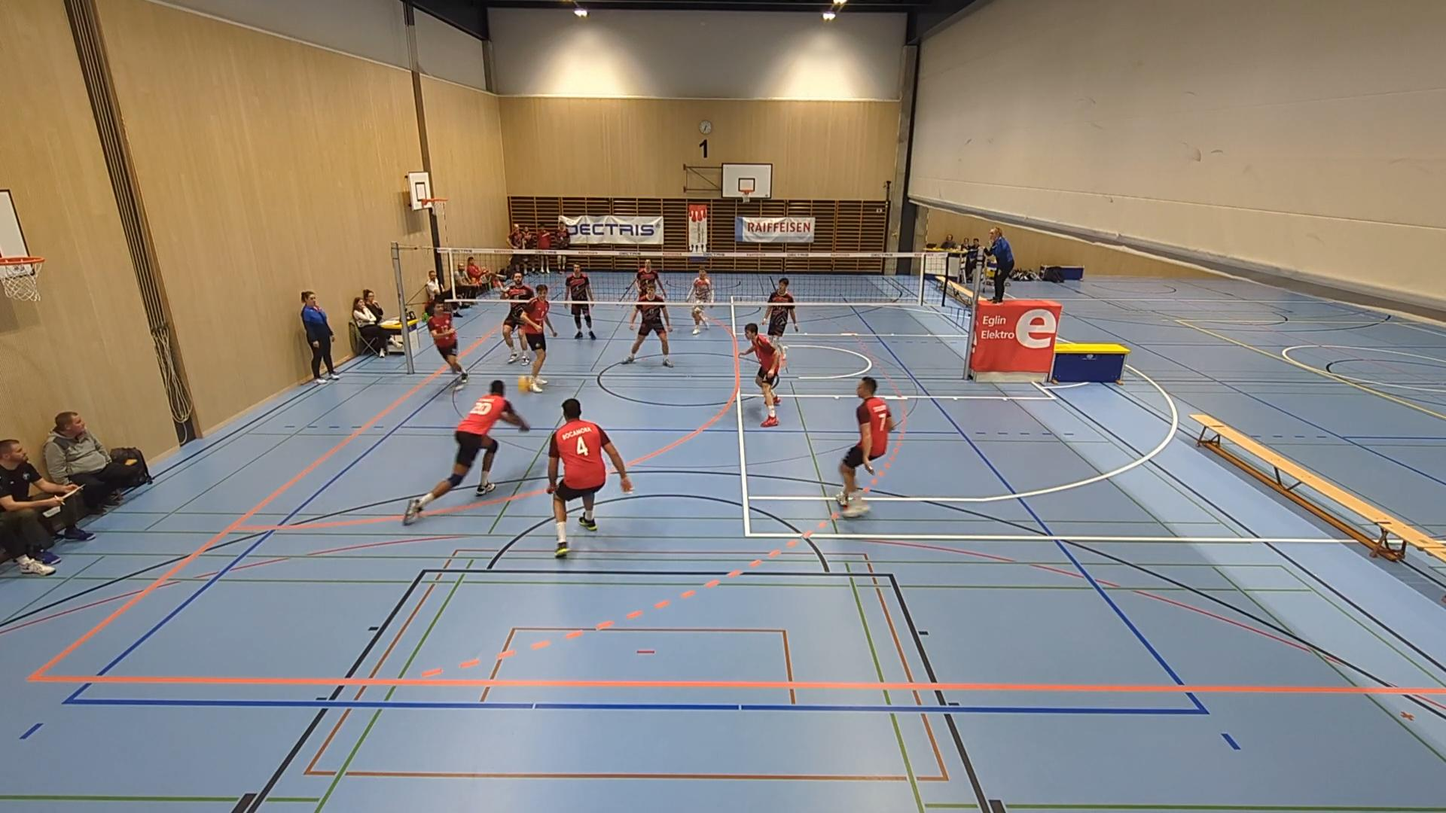Dig: (405, 381, 542, 520)
Player: (548, 398, 632, 557), (837, 376, 894, 517), (740, 323, 782, 427), (622, 284, 673, 367), (520, 285, 557, 392), (428, 301, 467, 385), (502, 269, 534, 363), (565, 263, 596, 338), (767, 278, 798, 341), (688, 267, 713, 334), (633, 259, 662, 294)
ball: (521, 377, 546, 391)
